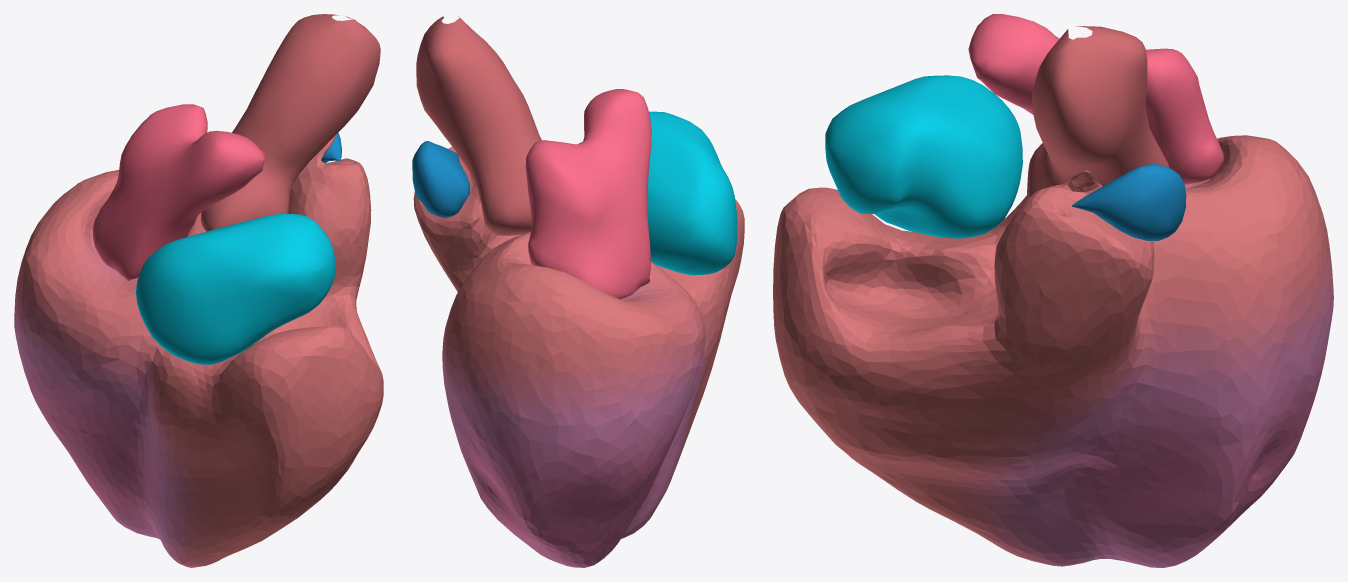
The model's file is frame_4.glb.
3 views of the same model, side by side, from view 1: azimuth 30°, elevation 25°; view 2: azimuth 150°, elevation 25°; view 3: azimuth 270°, elevation 25° (orthographic). The views are drawn at different scales.
Visible parts, largest first — view 1: Renderer Node; view 2: Renderer Node; view 3: Renderer Node.
Boxes of the visible parts, x1,y1,x2,y2 form: Renderer Node: [14, 14, 383, 567]; Renderer Node: [412, 16, 744, 567]; Renderer Node: [773, 14, 1333, 567].
Size of the model in its own units: 101 by 158 by 127.
